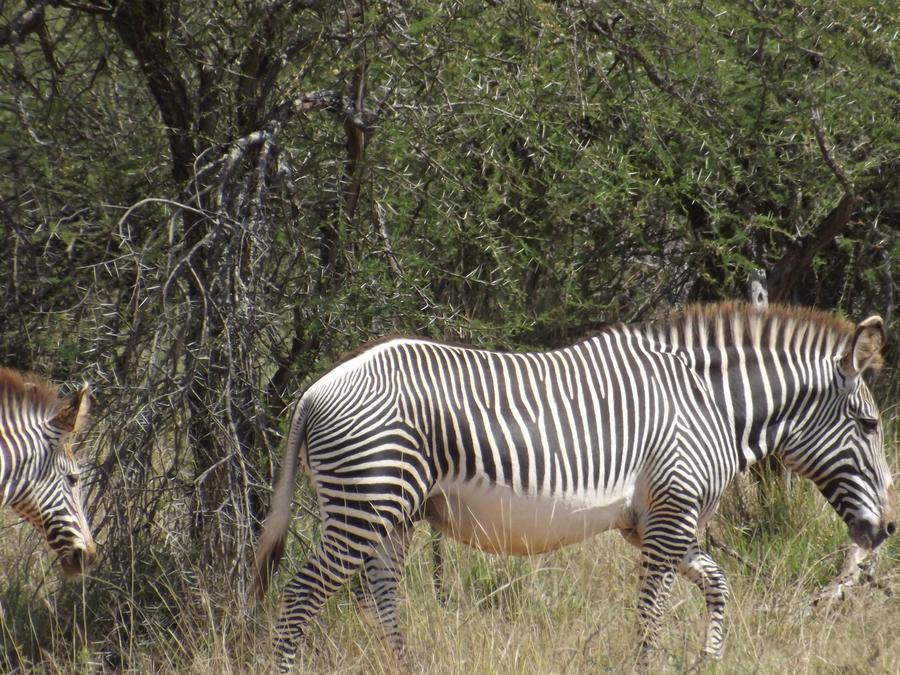zebra_grevys: (279, 311, 718, 530)
